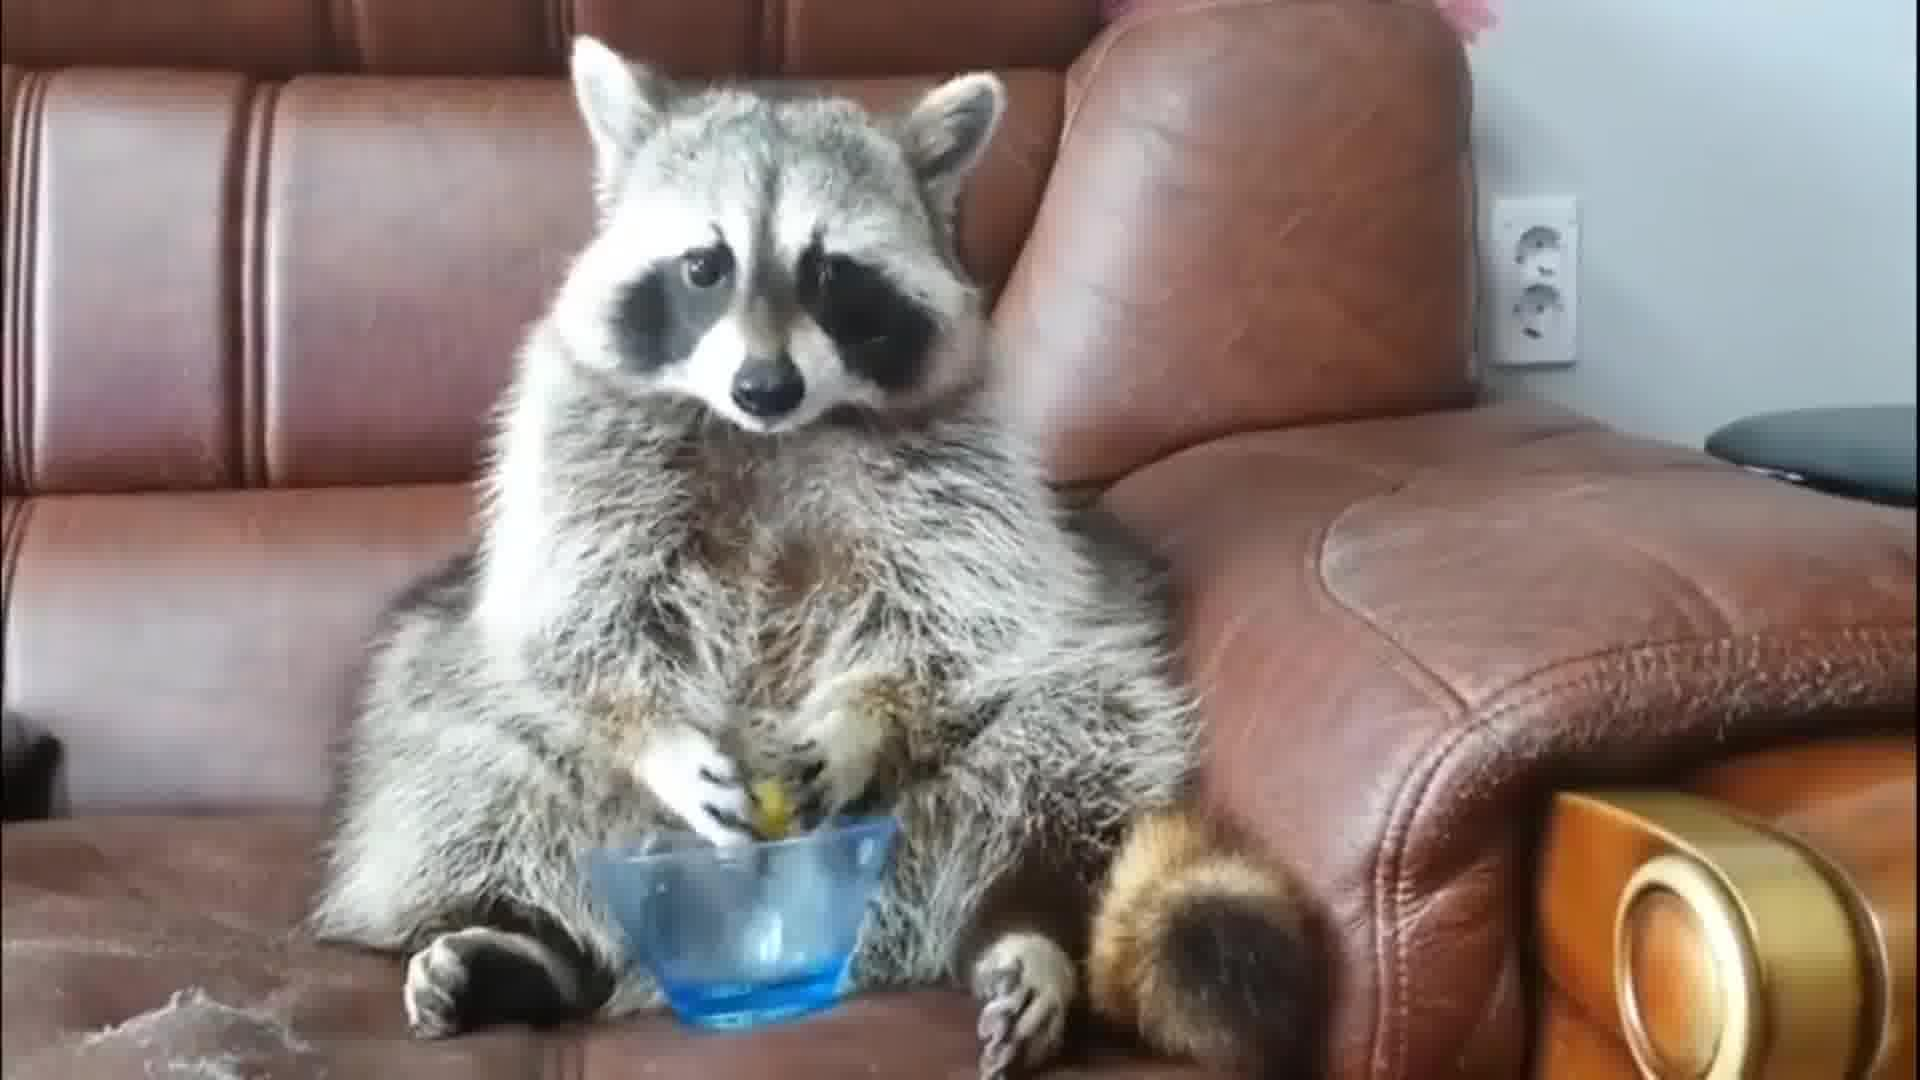raccoon: (309, 33, 1325, 1080)
